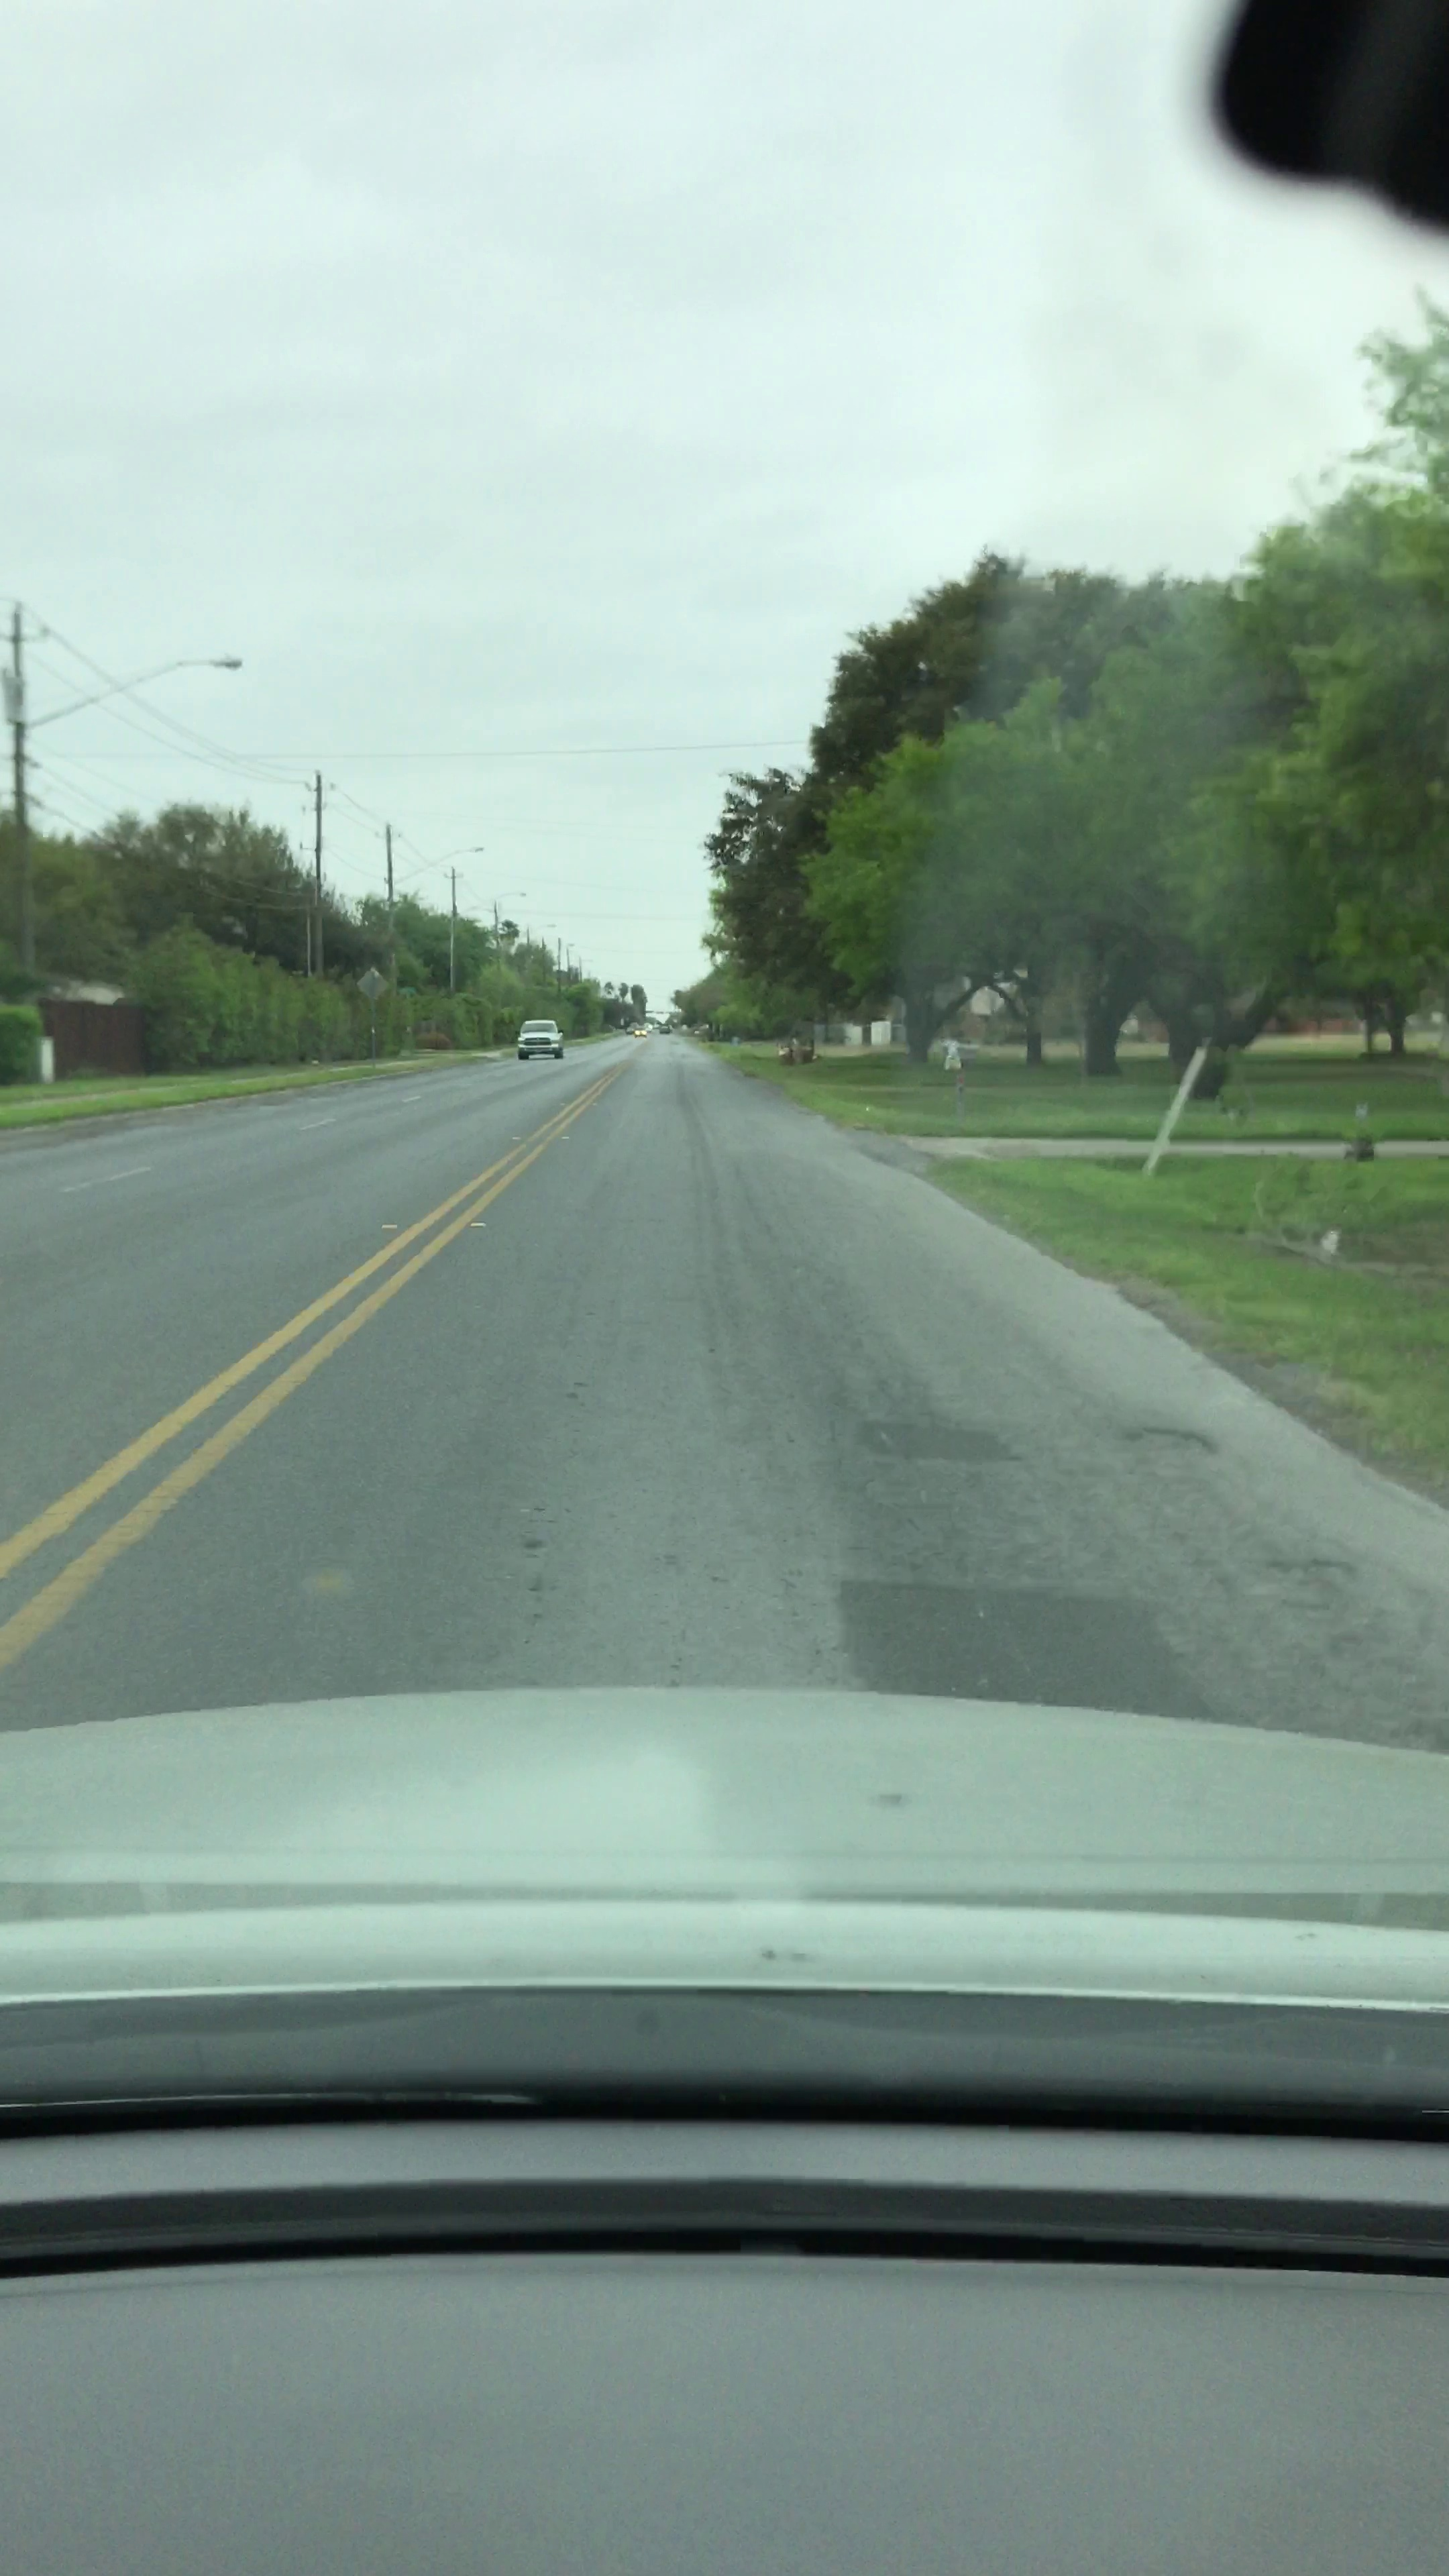pothole: (1097, 1396, 1247, 1483)
